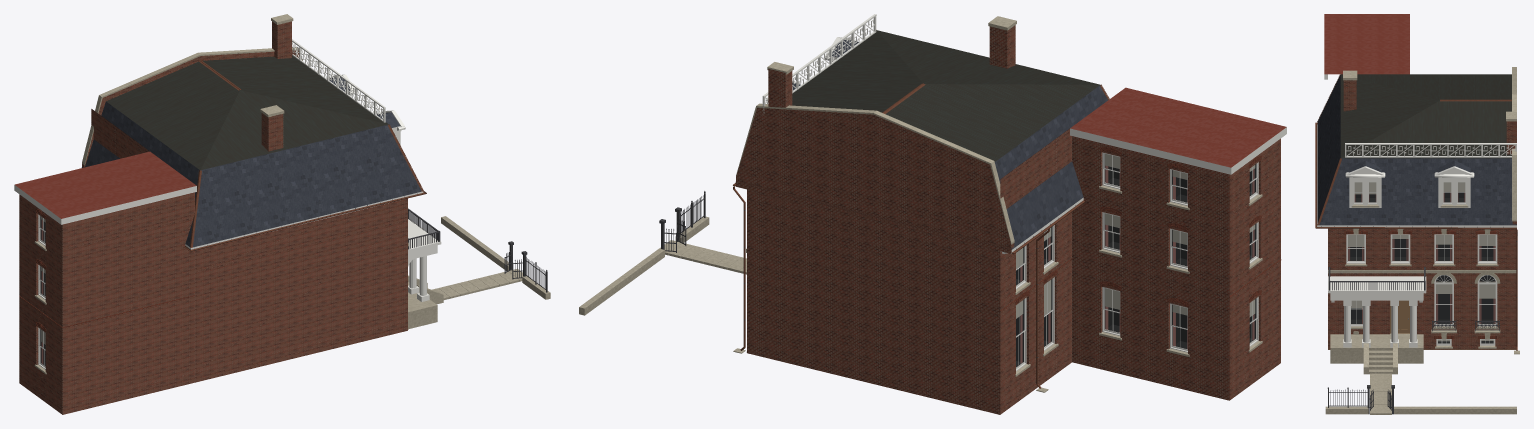
Rendered from george_glessner_house_1706_prairie__as_mapped_1904.glb.
3 renders of one model, left to right at view 1: azimuth 30°, elevation 25°; view 2: azimuth 150°, elevation 25°; view 3: azimuth 270°, elevation 25°, orthographic. The views are drawn at different scales.
Visible parts, largest first — view 1: george_glessner_house_1706_prairie__as_mapped_1904; view 2: george_glessner_house_1706_prairie__as_mapped_1904; view 3: george_glessner_house_1706_prairie__as_mapped_1904.
Part boxes in pixels (x1,y1,x2,y2): george_glessner_house_1706_prairie__as_mapped_1904: [14, 14, 550, 414]; george_glessner_house_1706_prairie__as_mapped_1904: [579, 14, 1286, 414]; george_glessner_house_1706_prairie__as_mapped_1904: [1315, 14, 1519, 414].
Size of the model in its own units: 30.35 by 14.55 by 11.96.
Materials: 22 (11 with a texture image).
